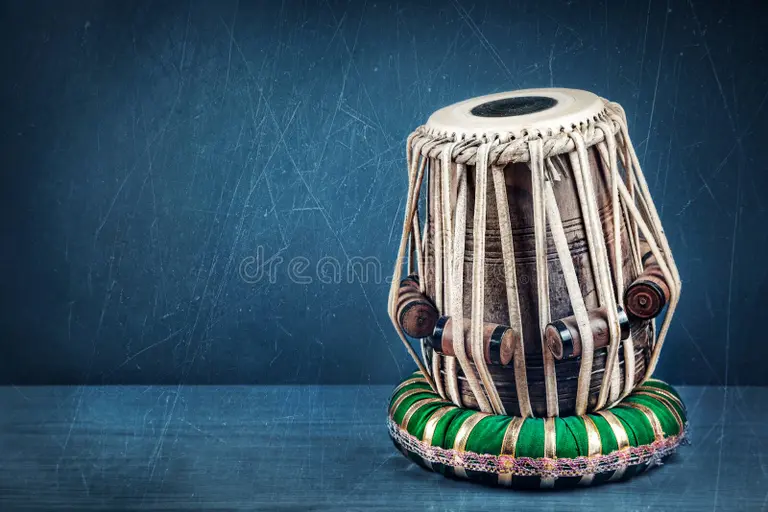tabla: (395, 87, 681, 407)
